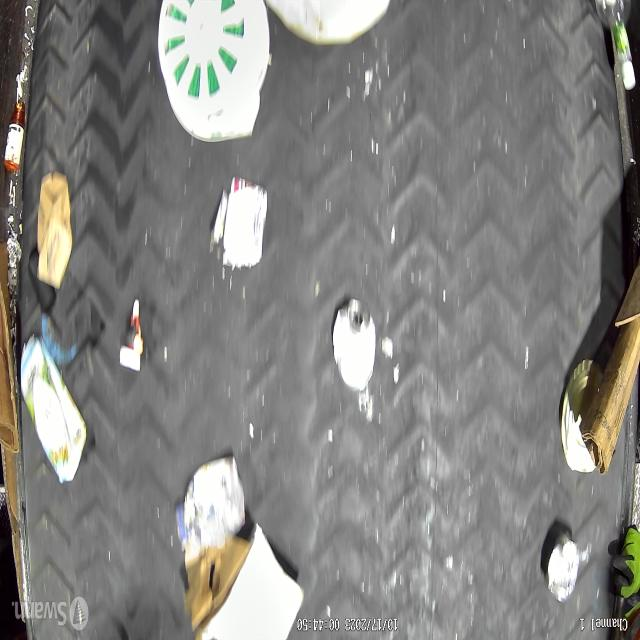can: (214, 176, 269, 270), (332, 296, 377, 392), (546, 533, 578, 600)
non_white_jug: (21, 335, 86, 483)
